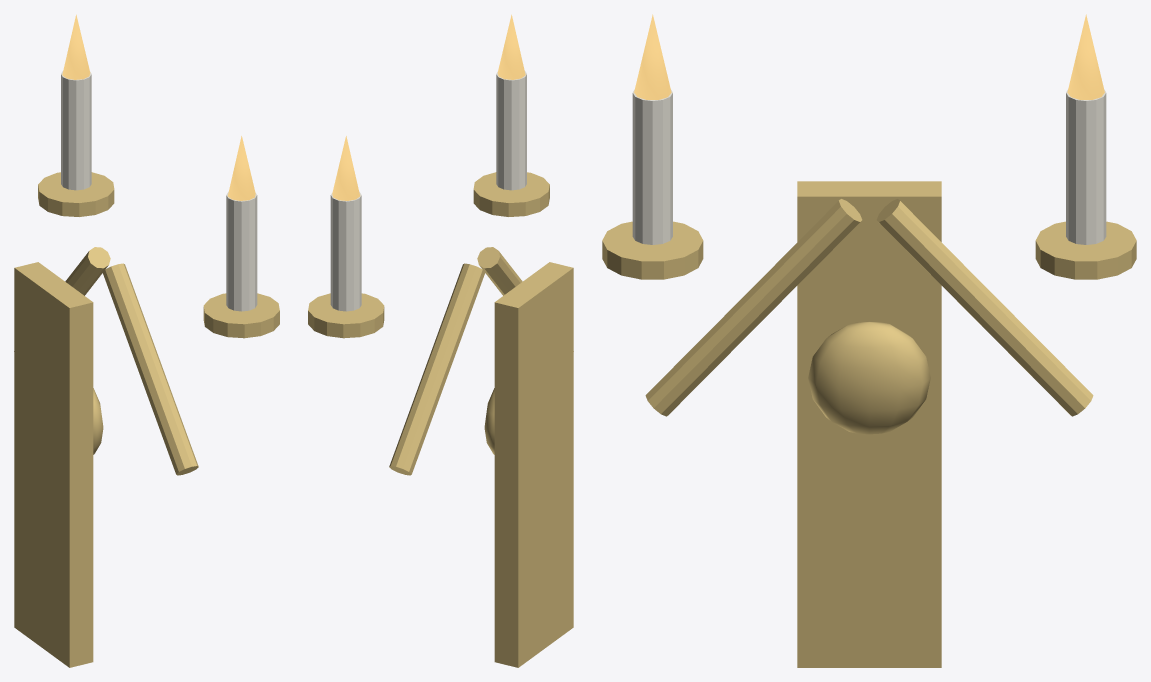
Rendered from sconce_og.glb.
3 views of the same model, side by side, from view 1: azimuth 30°, elevation 25°; view 2: azimuth 150°, elevation 25°; view 3: azimuth 270°, elevation 25° (orthographic). The views are drawn at different scales.
Parts seen in each view (by area): view 1: SconceExport; view 2: SconceExport; view 3: SconceExport.
Part boxes in pixels (x1=…): SconceExport: x1=14, y1=14, x2=279, y2=667; SconceExport: x1=308, y1=14, x2=573, y2=667; SconceExport: x1=602, y1=14, x2=1136, y2=667.
Size of the model in its own units: 0.3132 by 1.09 by 0.74.
